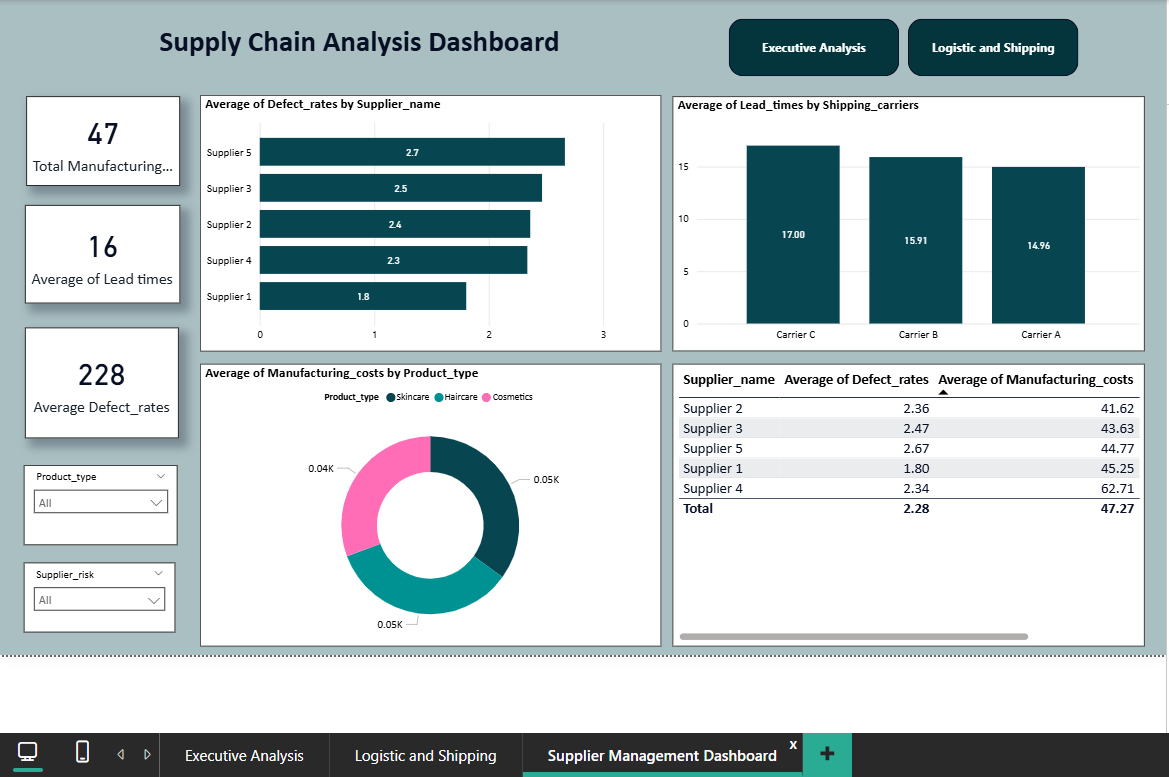

The dashboard page shown, as its layout file describes it:
{"tool":"powerbi","page":{"name":"Supplier Management Dashboard","canvas":[1280,720],"ordinal":2},"visuals":[{"type":"barChart","fields":{"Y":["Avg(Cleaned_supply_chain_data.Defect_rates)"],"Category":["Cleaned_supply_chain_data.Supplier_name"]},"box":[219.6,104.3,506.3,281.3],"z":0},{"type":"columnChart","fields":{"Category":["Cleaned_supply_chain_data.Shipping_carriers"],"Y":["Avg(Cleaned_supply_chain_data.Lead_times)"]},"box":[738.3,105.7,518.7,279.9],"z":1000},{"type":"tableEx","fields":{"Values":["Cleaned_supply_chain_data.Supplier_name","Avg(Cleaned_supply_chain_data.Defect_rates)","Avg(Cleaned_supply_chain_data.Manufacturing_costs)","Avg(Cleaned_supply_chain_data.Lead_times)"]},"box":[738.3,399.3,518.7,310.1],"z":2000},{"type":"donutChart","fields":{"Y":["Avg(Cleaned_supply_chain_data.Manufacturing_costs)"],"Category":["Cleaned_supply_chain_data.Product_type"]},"box":[219.6,399.3,506.3,310.1],"z":3000},{"type":"card","fields":{"Values":["Avg(Cleaned_supply_chain_data.Lead_times)"]},"box":[27,225.7,170.3,108.1],"z":4000},{"type":"card","fields":{"Values":["Avg(Cleaned_supply_chain_data.Manufacturing_costs)"]},"box":[28.4,105.4,168.9,98.6],"z":5000},{"type":"card","fields":{"Values":["Sum(Cleaned_supply_chain_data.Defect_rates)"]},"box":[27,359.5,168.9,121.6],"z":6000},{"type":"slicer","fields":{"Values":["Cleaned_supply_chain_data.Product_type"]},"box":[25.7,510.8,168.9,87.8],"z":7000},{"type":"slicer","fields":{"Values":["Cleaned_supply_chain_data.Supplier_risk"]},"box":[25.7,617.6,166.2,77],"z":8000},{"type":"pageNavigator","box":[800,20.3,385.1,63.5],"z":9000},{"type":"textbox","box":[170.3,20.3,483.8,55.4],"z":10000}]}

Visuals, with their boxes on the page's 1280x720 design canvas (x1, y1, x2, y2). These are canvas units, not pixel positions in the 1169x777 screenshot, which may show the page scaled, cropped or inside an application window:
barChart - Avg(Cleaned_supply_chain_data.Defect_rates) x Cleaned_supply_chain_data.Supplier_name: [220, 104, 726, 386]
columnChart - Cleaned_supply_chain_data.Shipping_carriers x Avg(Cleaned_supply_chain_data.Lead_times): [738, 106, 1257, 386]
tableEx - Cleaned_supply_chain_data.Supplier_name x Avg(Cleaned_supply_chain_data.Defect_rates): [738, 399, 1257, 709]
donutChart - Avg(Cleaned_supply_chain_data.Manufacturing_costs) x Cleaned_supply_chain_data.Product_type: [220, 399, 726, 709]
card - Avg(Cleaned_supply_chain_data.Lead_times): [27, 226, 197, 334]
card - Avg(Cleaned_supply_chain_data.Manufacturing_costs): [28, 105, 197, 204]
card - Sum(Cleaned_supply_chain_data.Defect_rates): [27, 360, 196, 481]
slicer - Cleaned_supply_chain_data.Product_type: [26, 511, 195, 599]
slicer - Cleaned_supply_chain_data.Supplier_risk: [26, 618, 192, 695]
pageNavigator: [800, 20, 1185, 84]
textbox: [170, 20, 654, 76]
